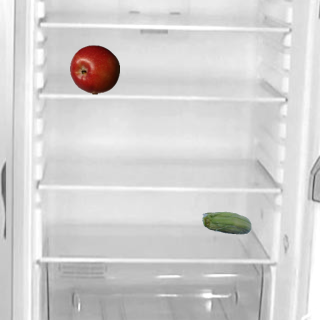Apple Braeburn: (69, 44, 119, 94)
Corn Husk: (201, 199, 251, 249)
